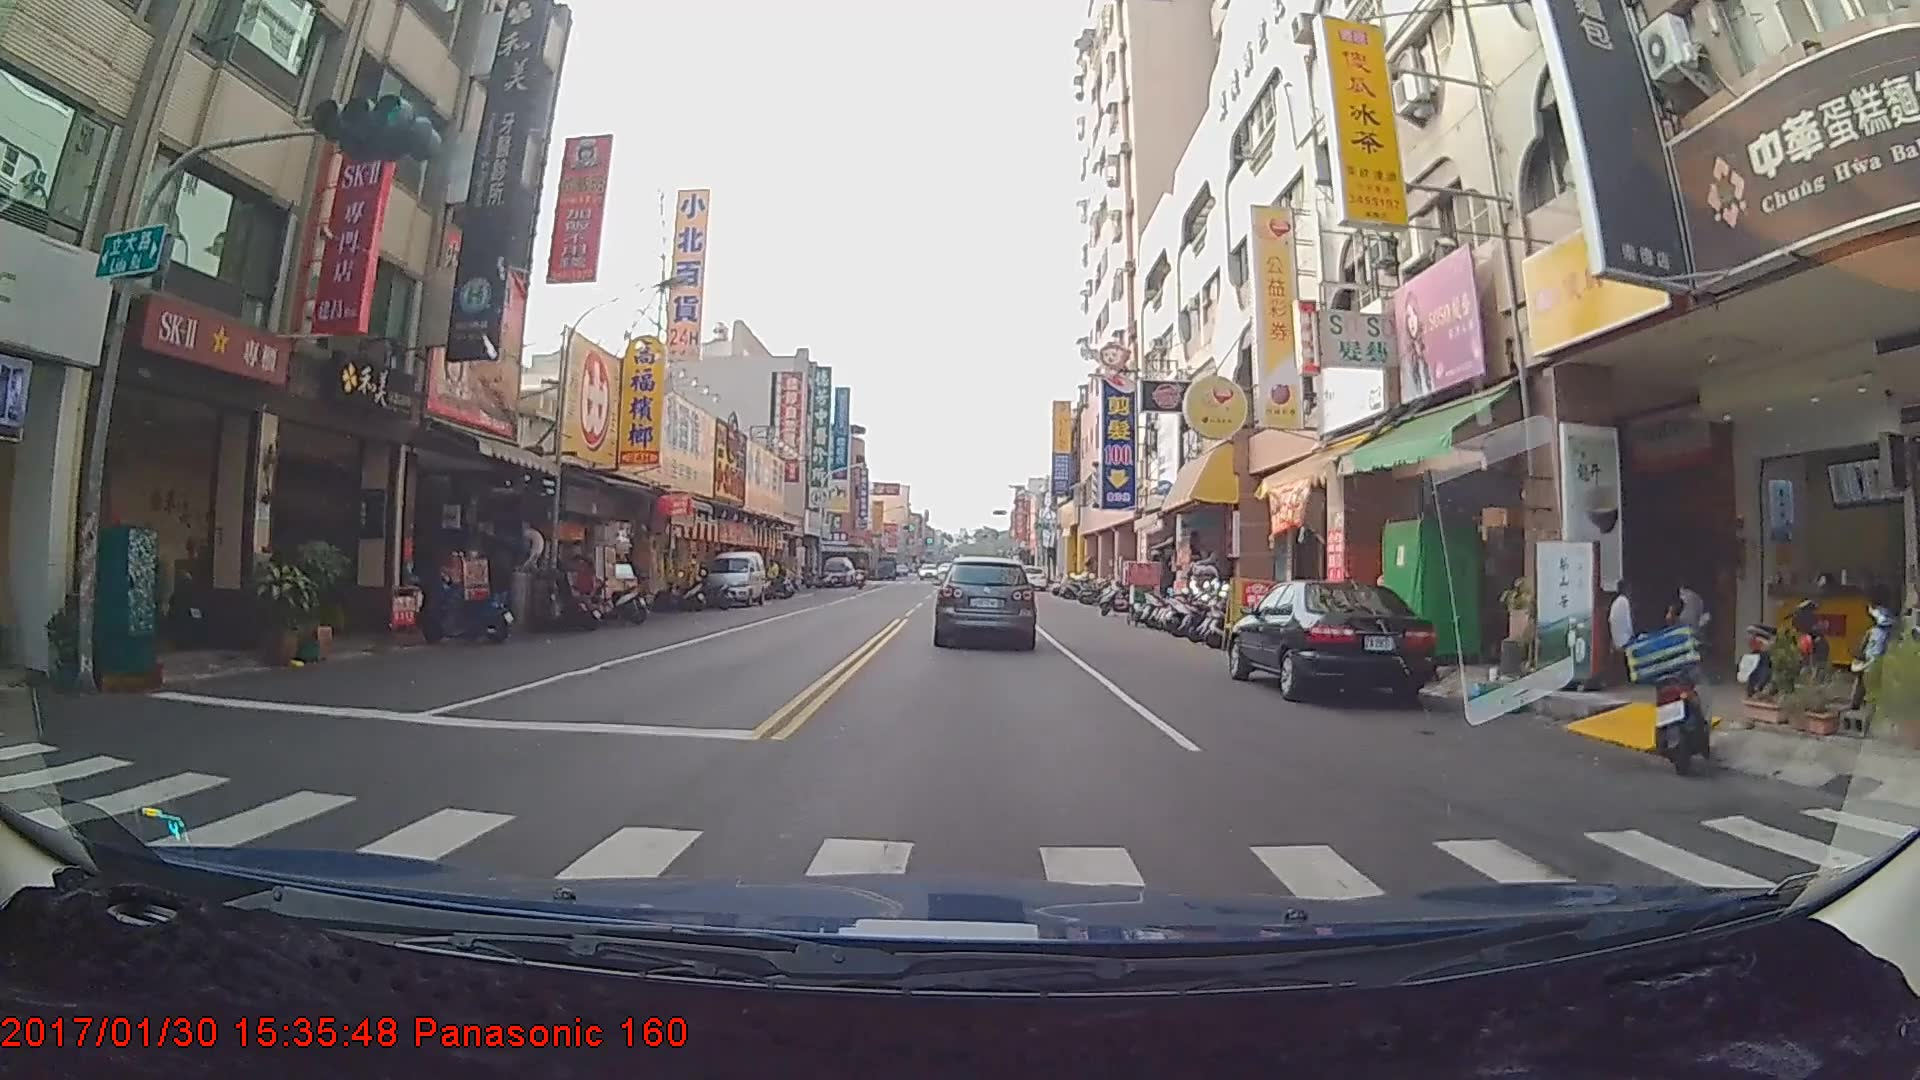pedestrian: (1662, 573, 1720, 685), (1604, 574, 1653, 685)
vehicle: (1230, 576, 1431, 699), (934, 556, 1036, 648), (705, 553, 766, 611), (821, 560, 854, 594), (1014, 574, 1045, 601)
